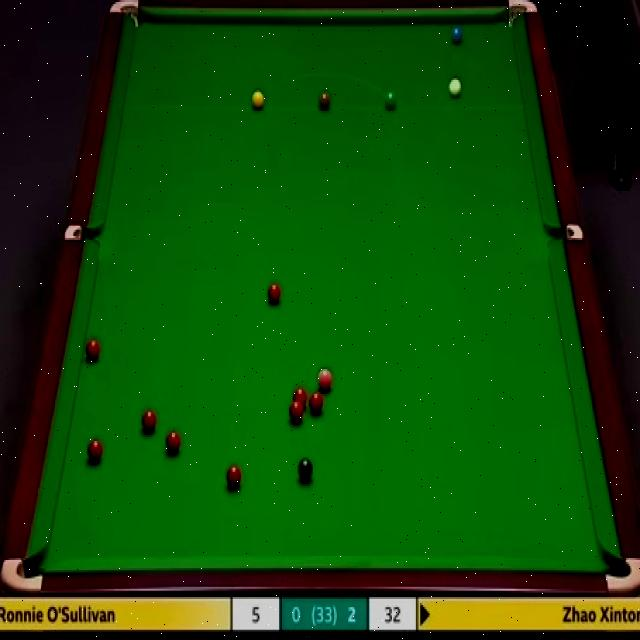black-ball: (297, 457, 314, 484)
blue-ball: (449, 20, 465, 46)
brown-ball: (318, 91, 332, 112)
green-ball: (383, 90, 398, 112)
pink-ball: (314, 368, 333, 393)
red-ball: (86, 438, 104, 466), (225, 463, 242, 490), (141, 409, 157, 436), (266, 281, 283, 306), (164, 430, 181, 454), (288, 401, 304, 425), (308, 390, 324, 414), (84, 338, 99, 362), (292, 386, 308, 408)
white-ball: (448, 76, 465, 100)
yellow-ball: (251, 90, 265, 111)
